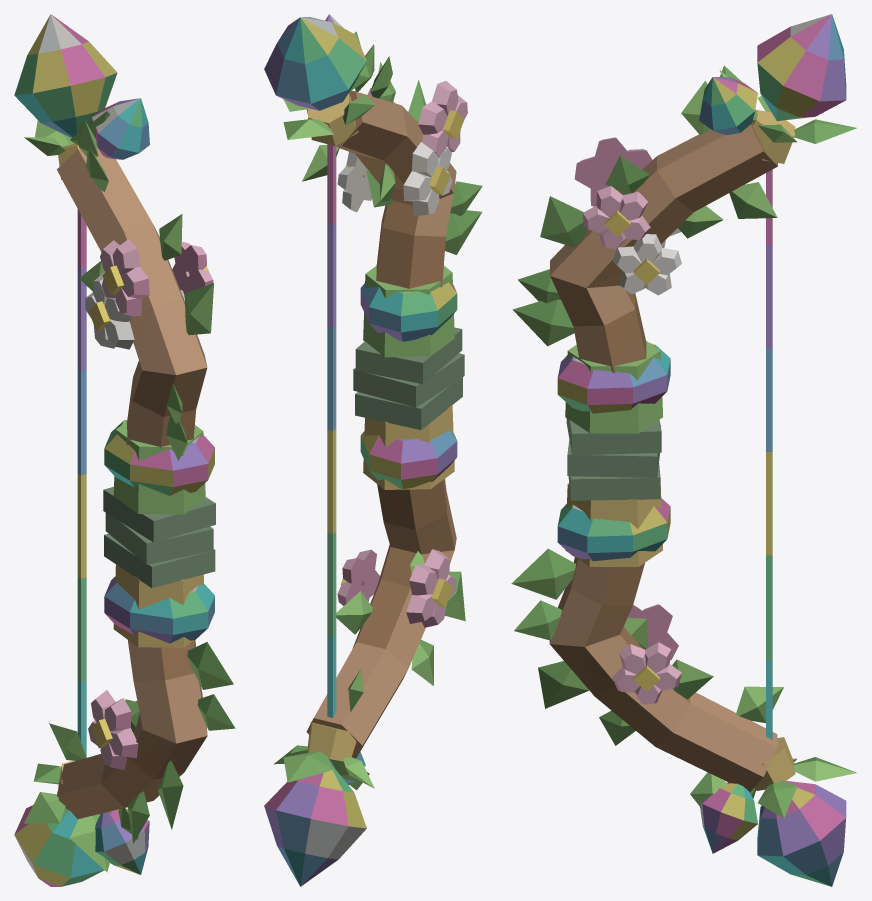
File: glade_spirit_bow_roblox.glb
3 views of the same model, side by side, from view 1: azimuth 30°, elevation 25°; view 2: azimuth 150°, elevation 25°; view 3: azimuth 270°, elevation 25° (orthographic).
Parts seen in each view (by area): view 1: Bow, Gems, Leaves, String; view 2: Bow, Leaves, Gems, String; view 3: Bow, Leaves, Gems, String.
Boxes of the visible parts, box(x1,y1,x2,y2) form: Bow: box(57, 143, 215, 818); Gems: box(14, 14, 214, 886); Leaves: box(24, 111, 235, 872); String: box(77, 209, 86, 756); Bow: box(306, 90, 464, 761); Leaves: box(274, 31, 482, 790); Gems: box(264, 14, 457, 886); String: box(327, 144, 336, 717); Bow: box(549, 110, 795, 792); Leaves: box(511, 65, 856, 818); Gems: box(557, 14, 846, 886); String: box(766, 169, 772, 739).
Size of the model in its own units: 0.1441 by 1.18 by 0.4244.
